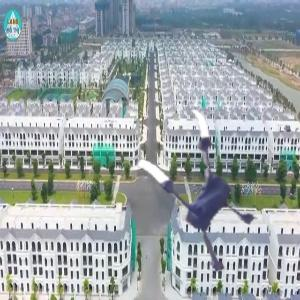drone: (113, 111, 279, 277)
